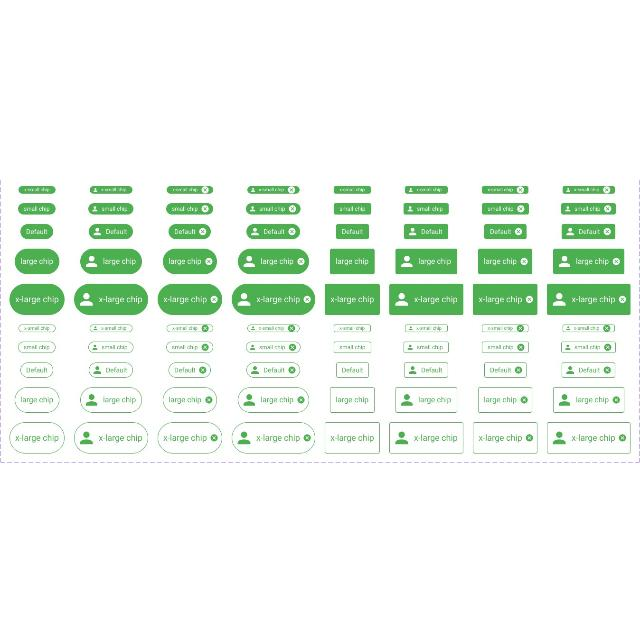QLabel: (253, 294, 301, 304), (410, 294, 458, 304), (161, 432, 209, 442), (96, 432, 144, 442), (328, 432, 376, 442), (329, 294, 376, 304), (97, 294, 143, 304), (15, 294, 61, 304), (570, 294, 616, 304), (15, 432, 61, 442), (478, 432, 524, 442), (570, 433, 616, 443), (254, 432, 300, 442), (163, 294, 207, 304), (478, 294, 522, 304), (413, 433, 457, 442), (573, 394, 609, 404), (416, 394, 452, 404), (572, 256, 610, 264), (258, 257, 296, 265), (166, 395, 204, 403), (258, 395, 296, 403), (482, 395, 520, 403), (101, 257, 137, 265), (19, 257, 55, 265), (416, 256, 452, 264), (483, 257, 519, 265), (334, 257, 370, 265), (19, 395, 55, 403), (100, 395, 136, 403), (334, 395, 370, 403), (168, 257, 202, 265), (172, 226, 198, 234), (418, 226, 444, 234), (262, 226, 286, 234), (340, 226, 364, 234), (98, 186, 128, 192), (414, 186, 444, 192), (256, 186, 286, 192), (22, 205, 52, 211), (170, 205, 200, 211), (572, 205, 602, 211), (100, 205, 130, 211), (486, 205, 516, 211), (572, 343, 602, 349), (170, 343, 200, 349), (100, 343, 130, 349), (414, 343, 444, 349), (22, 343, 52, 349), (337, 324, 367, 330), (22, 324, 52, 330), (338, 205, 367, 211), (338, 343, 367, 349), (171, 186, 199, 192), (259, 205, 287, 211), (415, 205, 443, 211), (486, 343, 514, 349), (258, 343, 286, 349), (258, 324, 286, 330), (572, 324, 600, 330), (576, 227, 602, 233), (488, 227, 514, 233), (105, 227, 129, 233), (25, 227, 49, 233), (488, 366, 512, 372), (104, 366, 128, 372), (262, 366, 286, 372), (419, 366, 443, 372), (173, 366, 197, 372), (340, 366, 364, 372), (24, 366, 48, 372), (578, 366, 600, 372), (170, 326, 200, 330), (485, 326, 515, 330), (99, 326, 129, 330), (413, 326, 443, 330), (573, 187, 601, 191), (486, 187, 514, 191), (24, 187, 50, 191), (339, 187, 365, 191)
VChip: (231, 421, 315, 454), (232, 282, 316, 314), (547, 421, 631, 453), (547, 284, 631, 314), (388, 282, 464, 314), (388, 421, 464, 453), (74, 282, 148, 314), (74, 421, 148, 453), (472, 283, 538, 315), (472, 421, 538, 453), (158, 421, 222, 453), (158, 284, 222, 314), (553, 248, 625, 274), (553, 386, 625, 412), (238, 248, 308, 274), (238, 386, 308, 412), (324, 283, 380, 315), (9, 421, 65, 453), (324, 421, 380, 453), (10, 282, 64, 314), (80, 248, 142, 274), (395, 248, 457, 274), (80, 386, 142, 412), (395, 386, 457, 412), (162, 386, 218, 412), (478, 247, 532, 273), (163, 248, 217, 274), (478, 386, 532, 412), (15, 247, 60, 273), (15, 386, 60, 412), (330, 248, 374, 274), (330, 386, 374, 412), (246, 361, 300, 377), (561, 361, 615, 377), (247, 223, 300, 239), (561, 224, 615, 238), (89, 223, 133, 239), (404, 223, 448, 239), (484, 361, 528, 377), (89, 361, 133, 377), (404, 361, 448, 377), (560, 340, 616, 352), (484, 223, 526, 239), (169, 361, 211, 377), (562, 202, 616, 214), (246, 202, 300, 214), (246, 341, 300, 353), (170, 223, 210, 239), (166, 202, 214, 214), (166, 341, 214, 353), (481, 340, 529, 352), (88, 202, 134, 214), (403, 202, 449, 214), (482, 202, 528, 214), (88, 340, 134, 352), (336, 223, 369, 239), (404, 340, 448, 352), (21, 222, 54, 238), (21, 361, 54, 377), (336, 361, 368, 377), (18, 202, 56, 214), (333, 202, 371, 214), (334, 341, 372, 353), (17, 340, 55, 352), (404, 322, 448, 332), (562, 324, 616, 332), (563, 185, 615, 193), (247, 185, 299, 193), (247, 323, 299, 331), (167, 185, 213, 193), (482, 185, 528, 193), (167, 323, 213, 331), (482, 323, 528, 331), (404, 185, 448, 193), (90, 185, 132, 193), (90, 323, 132, 331), (18, 185, 56, 193), (18, 323, 56, 331), (334, 324, 371, 332), (334, 185, 371, 193)
VIcon: (80, 292, 94, 306), (395, 292, 409, 306), (552, 292, 566, 306), (552, 431, 566, 444), (238, 292, 250, 306), (80, 431, 92, 444), (238, 431, 250, 444), (396, 431, 408, 444), (86, 255, 98, 267), (86, 393, 98, 405), (243, 255, 255, 267), (243, 393, 255, 405), (401, 255, 413, 267), (559, 255, 571, 267), (559, 393, 571, 405), (402, 393, 412, 405), (250, 227, 260, 235), (93, 227, 101, 235), (93, 365, 101, 373), (210, 295, 218, 303), (288, 204, 296, 212), (251, 365, 259, 373), (409, 227, 417, 235), (409, 365, 417, 373), (520, 395, 528, 403), (604, 204, 612, 212), (566, 227, 574, 235), (619, 295, 627, 303), (604, 342, 612, 350), (566, 365, 574, 373), (210, 434, 218, 441), (205, 395, 212, 403), (288, 228, 296, 235), (288, 344, 296, 351), (517, 344, 525, 351), (514, 228, 522, 235), (618, 434, 626, 441), (200, 228, 207, 235), (202, 342, 208, 350), (205, 258, 213, 264), (202, 204, 208, 212), (288, 186, 296, 192), (298, 257, 304, 265), (304, 295, 310, 303), (288, 366, 296, 372), (514, 366, 522, 372), (516, 325, 524, 331), (526, 294, 532, 302), (520, 258, 528, 264), (518, 204, 524, 212), (516, 186, 524, 192), (603, 186, 611, 192), (612, 258, 620, 264), (612, 396, 620, 402), (200, 366, 207, 372), (304, 434, 310, 441), (526, 434, 532, 441), (604, 228, 610, 235), (92, 344, 98, 350), (202, 325, 208, 331), (202, 186, 208, 192), (250, 205, 256, 211), (288, 324, 294, 330), (250, 344, 256, 350), (298, 396, 304, 402), (604, 325, 610, 331), (604, 366, 610, 372), (92, 206, 98, 210), (408, 205, 412, 211), (408, 343, 412, 349), (565, 206, 571, 210), (565, 344, 571, 348), (93, 187, 97, 191), (93, 325, 97, 329), (251, 187, 255, 191), (251, 325, 255, 329), (408, 187, 412, 191), (409, 326, 413, 330), (566, 187, 570, 191), (566, 326, 570, 330)
